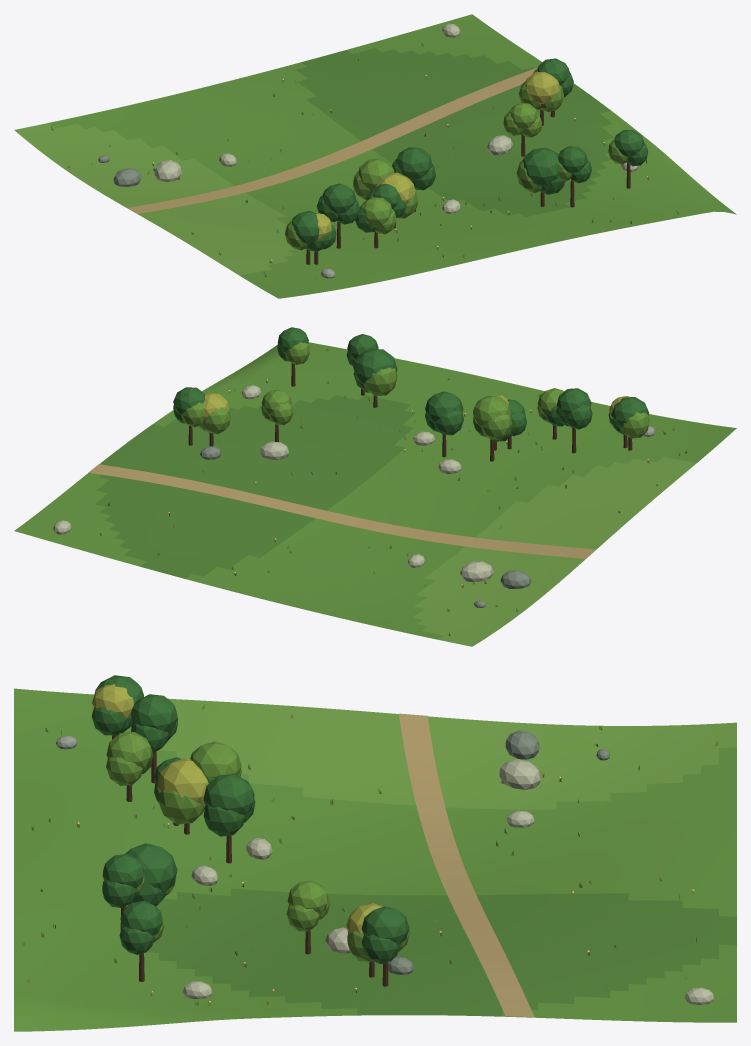
Rendered from Chunk_X-1_Y0_Z-1.fbx.
The picture shows the model from 3 angles, top to bottom: view 1: azimuth 30°, elevation 25°; view 2: azimuth 150°, elevation 25°; view 3: azimuth 270°, elevation 25°; orthographic projection. The views are drawn at different scales.
Parts seen in each view (by area): view 1: Terrain.016, Canopies.016, Path.002, Rocks.016, Trunks.016, GroundCover.016; view 2: Terrain.016, Canopies.016, Path.002, Rocks.016, Trunks.016, GroundCover.016; view 3: Terrain.016, Canopies.016, Path.002, Rocks.016, Trunks.016, GroundCover.016.
Part boxes in pixels (box(x1,y1,x2,y2)): Terrain.016: box(14, 14, 736, 298); Canopies.016: box(285, 58, 648, 251); Path.002: box(128, 67, 537, 213); Rocks.016: box(98, 23, 638, 278); Trunks.016: box(306, 109, 630, 264); GroundCover.016: box(51, 43, 678, 283); Terrain.016: box(14, 342, 736, 646); Canopies.016: box(173, 327, 649, 441); Path.002: box(88, 464, 595, 558); Rocks.016: box(53, 385, 654, 607); Trunks.016: box(188, 363, 632, 461); GroundCover.016: box(100, 349, 686, 635); Terrain.016: box(14, 688, 736, 1031); Canopies.016: box(91, 675, 409, 963); Path.002: box(399, 713, 534, 1017); Rocks.016: box(56, 730, 713, 1004); Trunks.016: box(112, 734, 388, 986); GroundCover.016: box(22, 704, 717, 1006).
Size of the model in its own units: 100 by 18 by 100.
